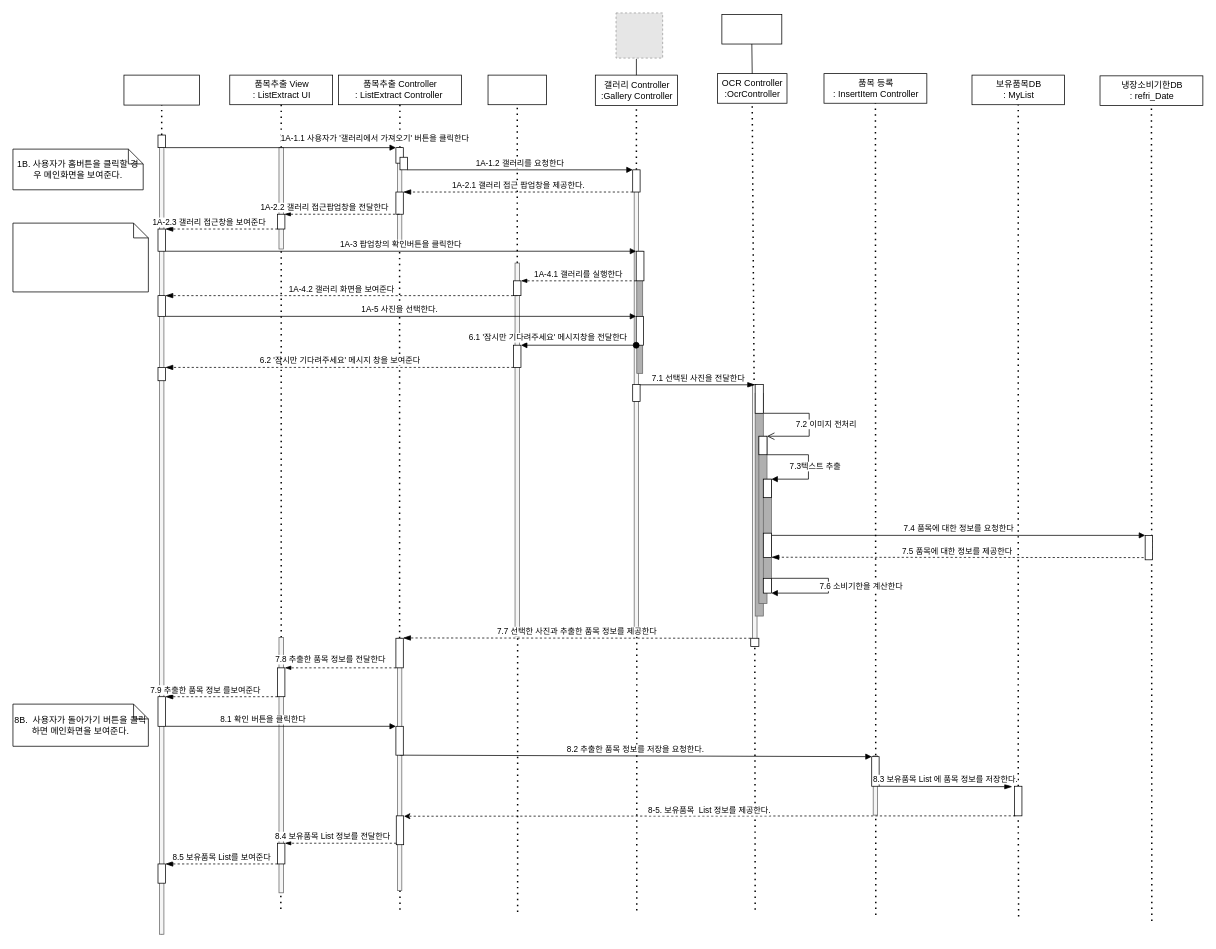
Image size: 1216x949. Some labels were removed from this diagram. Grey dashed boxes stand in for pictures. The centre of each missing label's shape, as x and y in pixels:
1-3A. 사용자가 팝업창의 확인 버튼을 누르지 않고 취소 버튼을 클릭할 경우 시스템이 "팝업을 허용해주세요" 라는 메세지를 표시: (80,257)
USER : main Controller: (161,89)
갤러리 View :Gallery UI: (516,89)
시스템날짜: (751,29)
